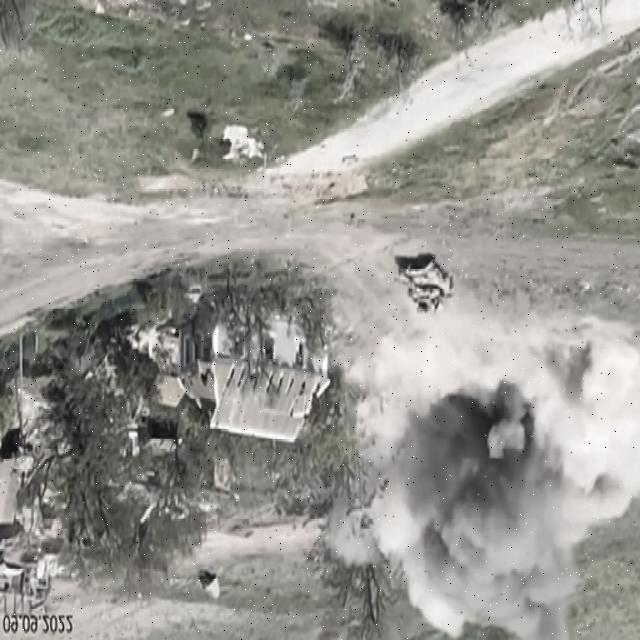TANK: (385, 247, 454, 324)
